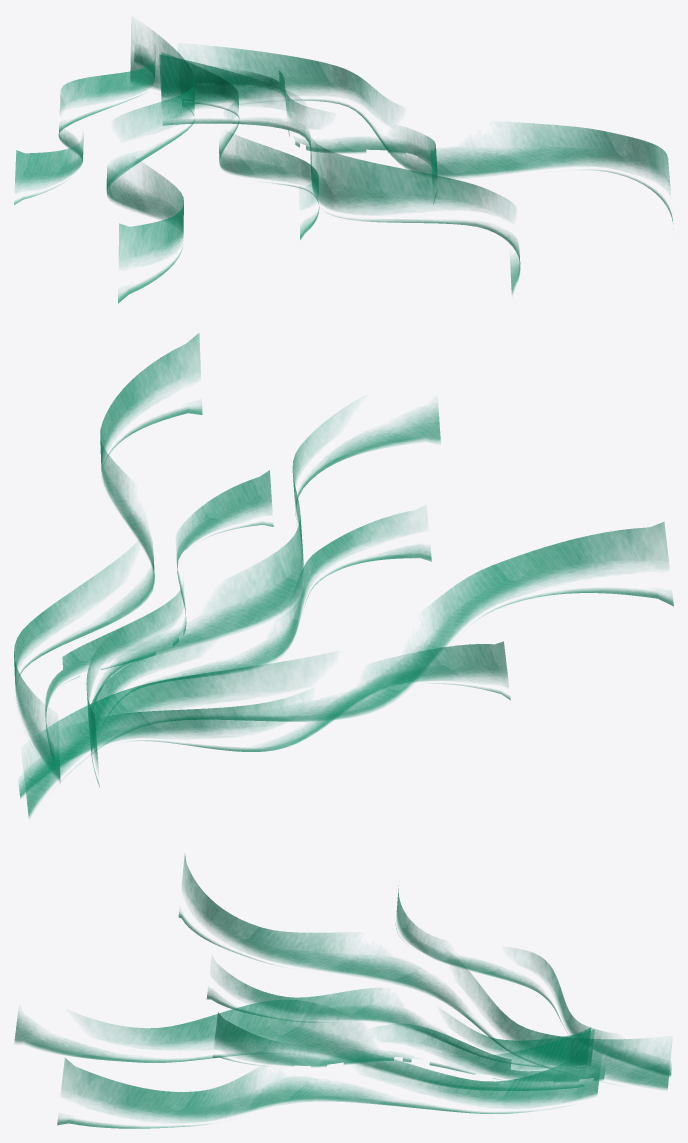
The model's file is aurora.glb.
The picture shows the model from 3 angles, top to bottom: view 1: azimuth 30°, elevation 25°; view 2: azimuth 150°, elevation 25°; view 3: azimuth 270°, elevation 25°; orthographic projection. The views are drawn at different scales.
Visible parts, largest first — view 1: aurora.png__; view 2: aurora.png__; view 3: aurora.png__.
Boxes of the visible parts, box(x1,y1,x2,y2) form: aurora.png__: box(14, 30, 673, 303); aurora.png__: box(14, 333, 673, 817); aurora.png__: box(14, 856, 671, 1128).
Size of the model in its own units: 482 by 122 by 617.
1 material, 1 textured.
